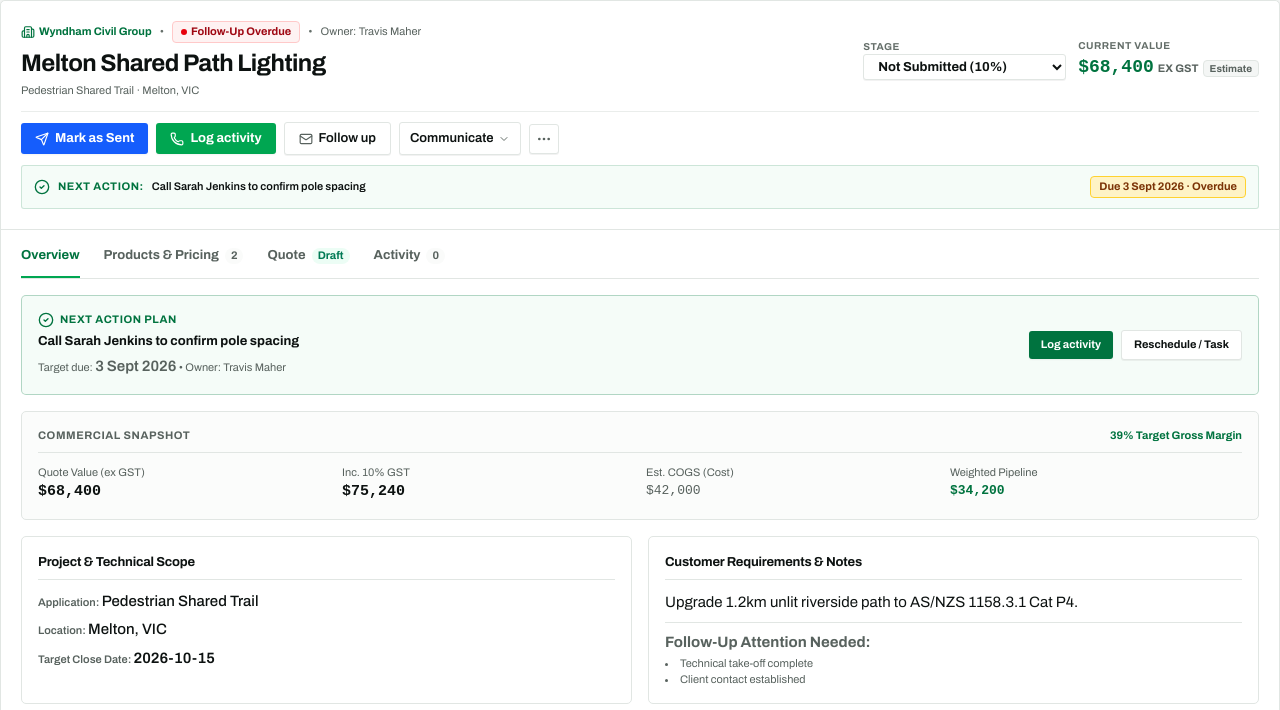
Test: CRMDealDetailsWorkspace Component › Test 6 — renders Quote tab with readable values first and deliberate edit mode
Click the button "Quote Draft".
click(309, 262)  # box left=268, top=246, right=350, bottom=278
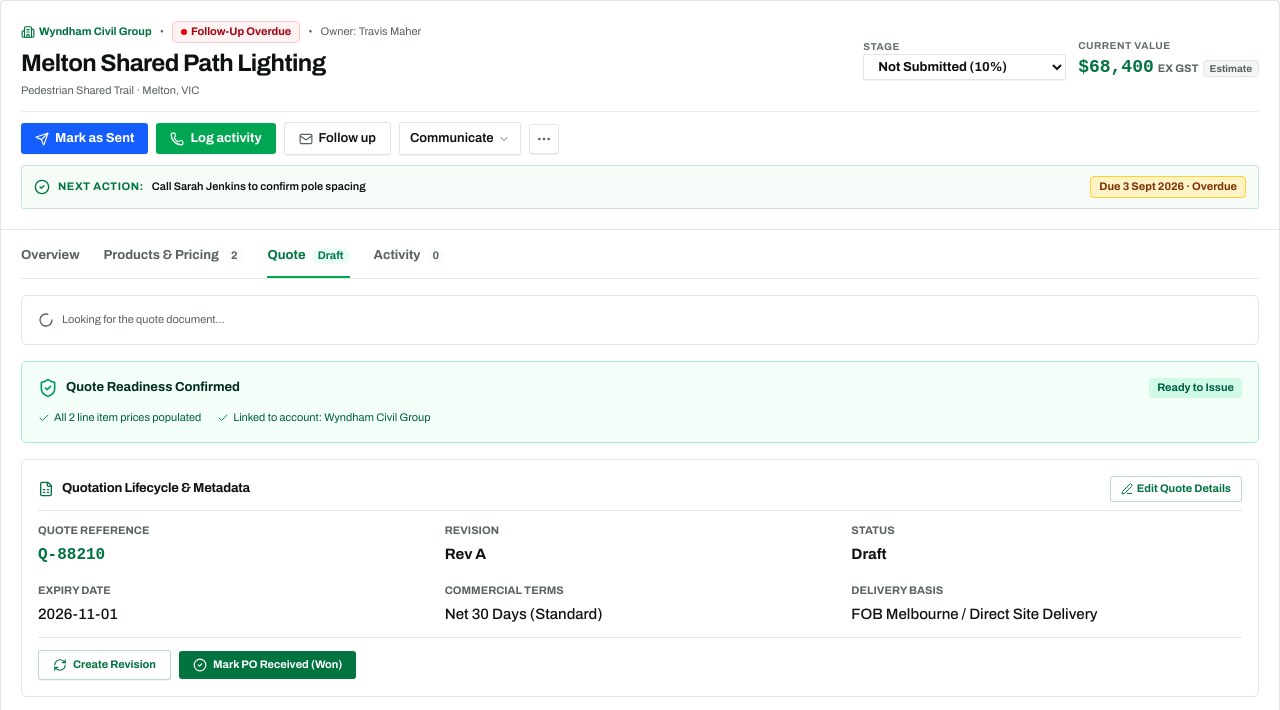
Check: the text "Q-88210" is shown, box left=38, top=546, right=105, bottom=564
Check: the text "Rev A" is shown, box left=445, top=546, right=486, bottom=562
Check: the button "Edit Quote Details" is shown
// Enter Edit Mode deliberately
Click the button "Edit Quote Details".
click(1176, 489)  # box left=1110, top=476, right=1242, bottom=502
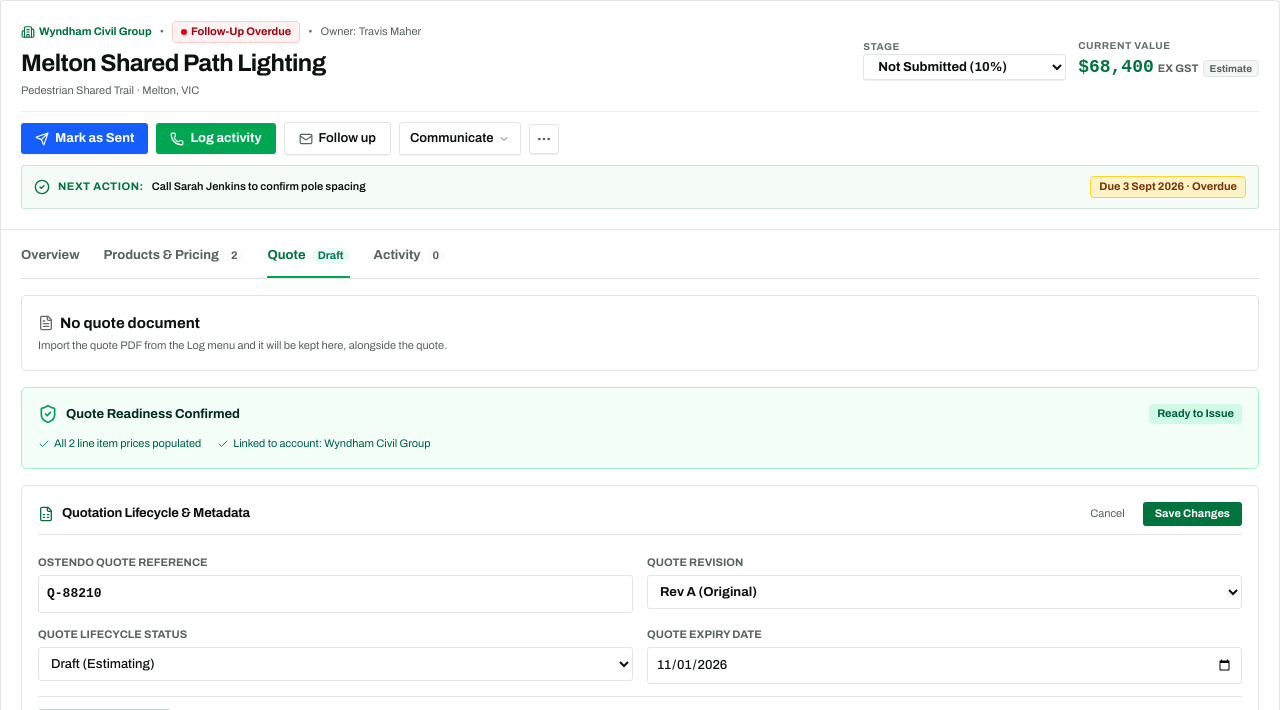
Check: the field labelled "Ostendo Quote Reference" is shown, box left=38, top=575, right=633, bottom=613
Check: the button "Save Changes" is shown, box left=1143, top=502, right=1242, bottom=526
